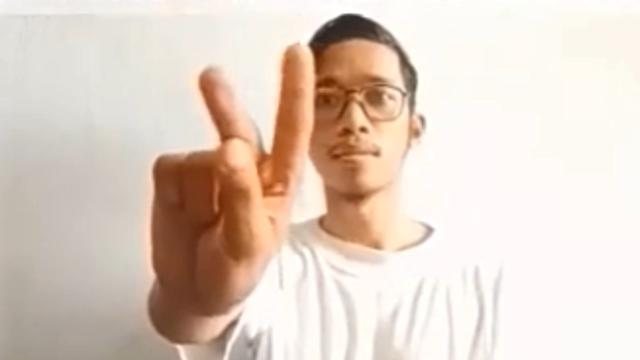K: (147, 39, 319, 319)
